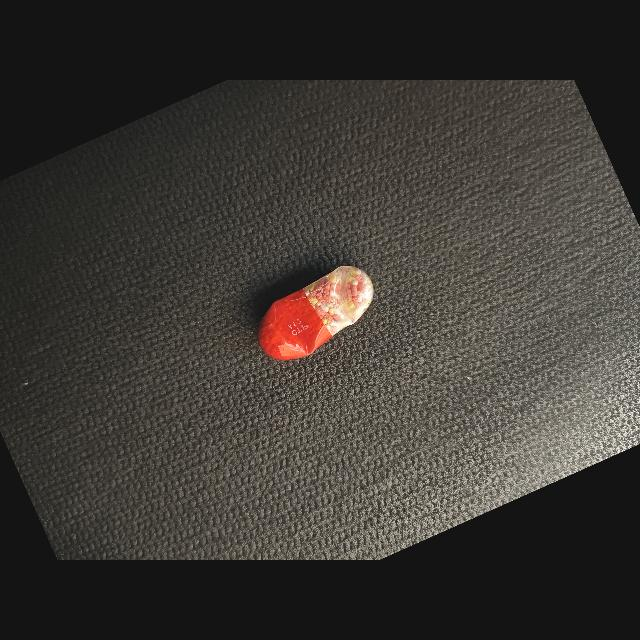Defective Capsule: (258, 266, 374, 360)
